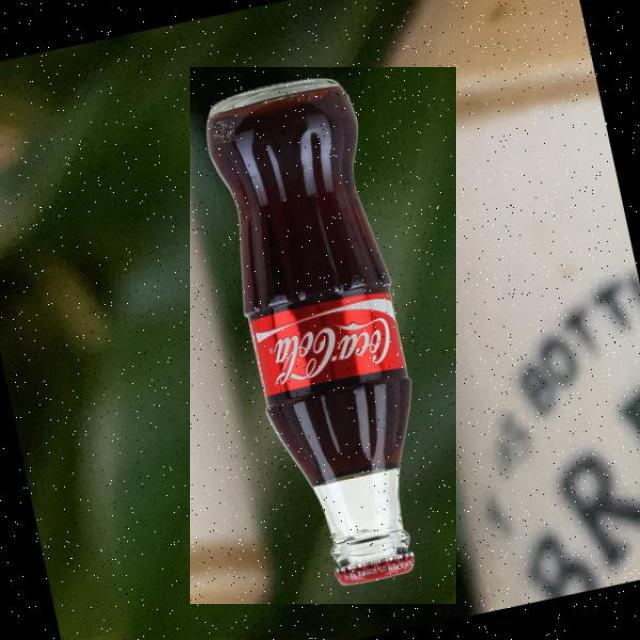coca-cola: (190, 67, 456, 604)
